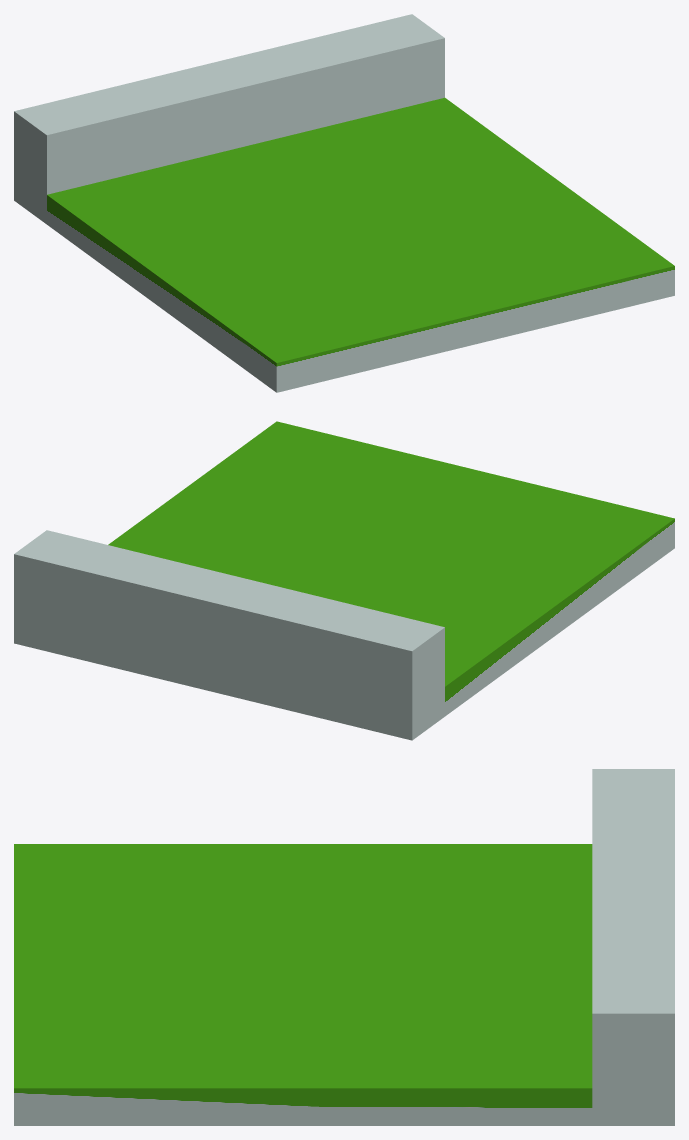
File: 1 Muro.fbx
3 views of the same model, one above another, from view 1: azimuth 30°, elevation 25°; view 2: azimuth 150°, elevation 25°; view 3: azimuth 270°, elevation 25° (orthographic). The views are drawn at different scales.
Visible parts, largest first — view 1: 1 Muro; view 2: 1 Muro; view 3: 1 Muro.
Boxes of the visible parts, x1,y1,x2,y2 form: 1 Muro: (14,14,674,392); 1 Muro: (14,421,674,740); 1 Muro: (14,769,674,1125).
Bounding box in the file's own units: 70 × 15 × 80.
Materials: 1 (1 with a texture image).
